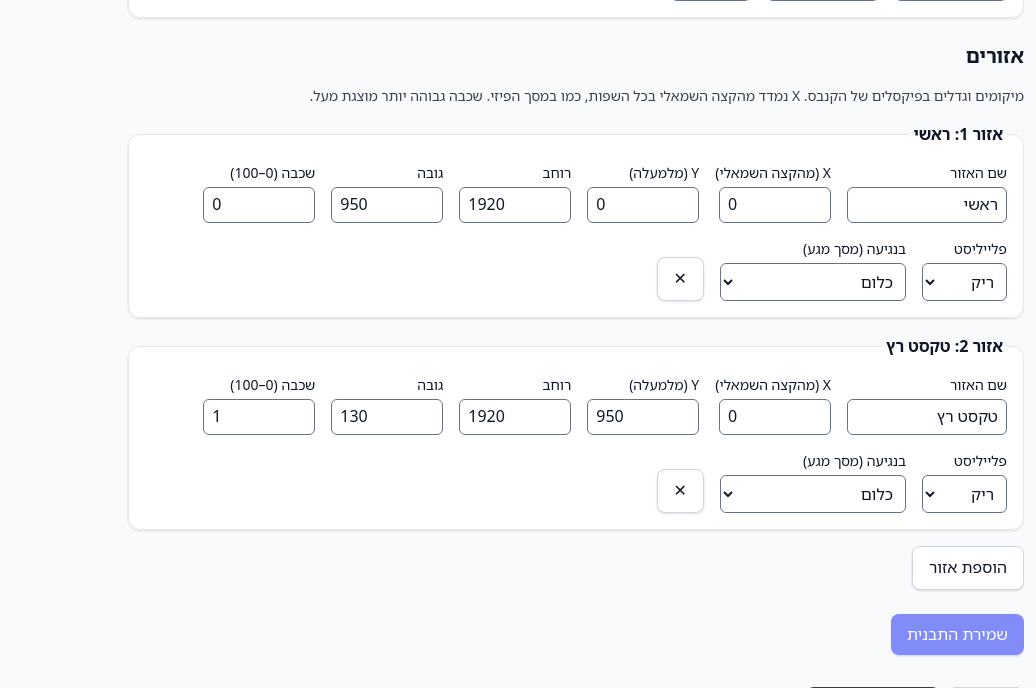
Test: LayoutEditorPage › edits zones with a form and saves them in one request
(page scrolled)
Select "חדשות" in the dropdown labelled "פלייליסט" below "אזור 2" at (964, 494), box left=922, top=475, right=1007, bottom=513
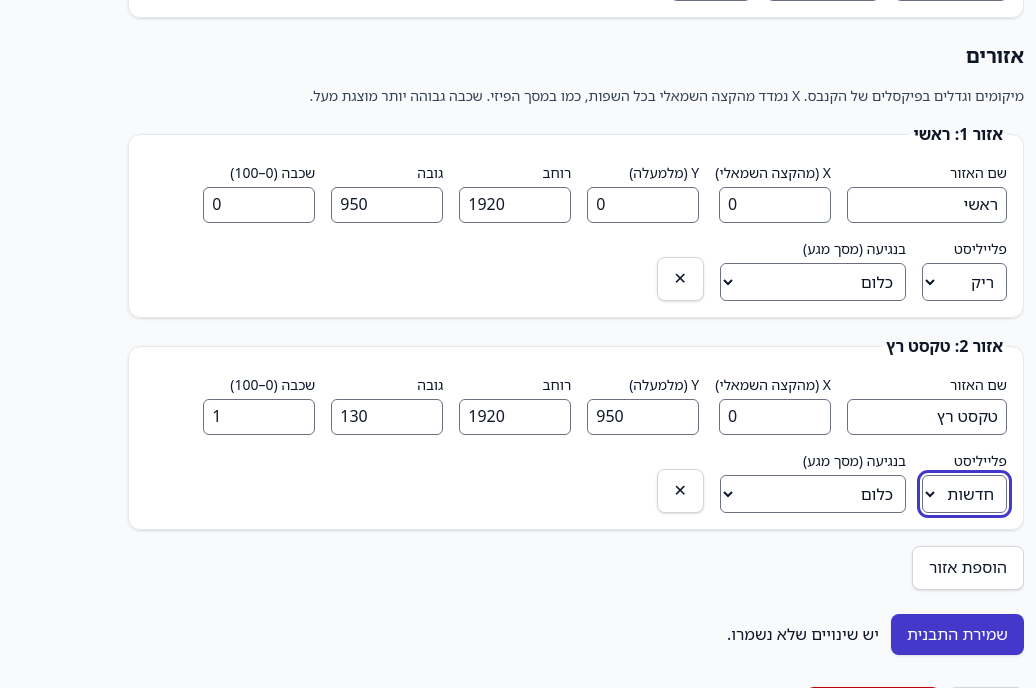
Replace the text in the 2nd number field labelled "גובה" with "120" at (387, 417), box left=331, top=399, right=443, bottom=435
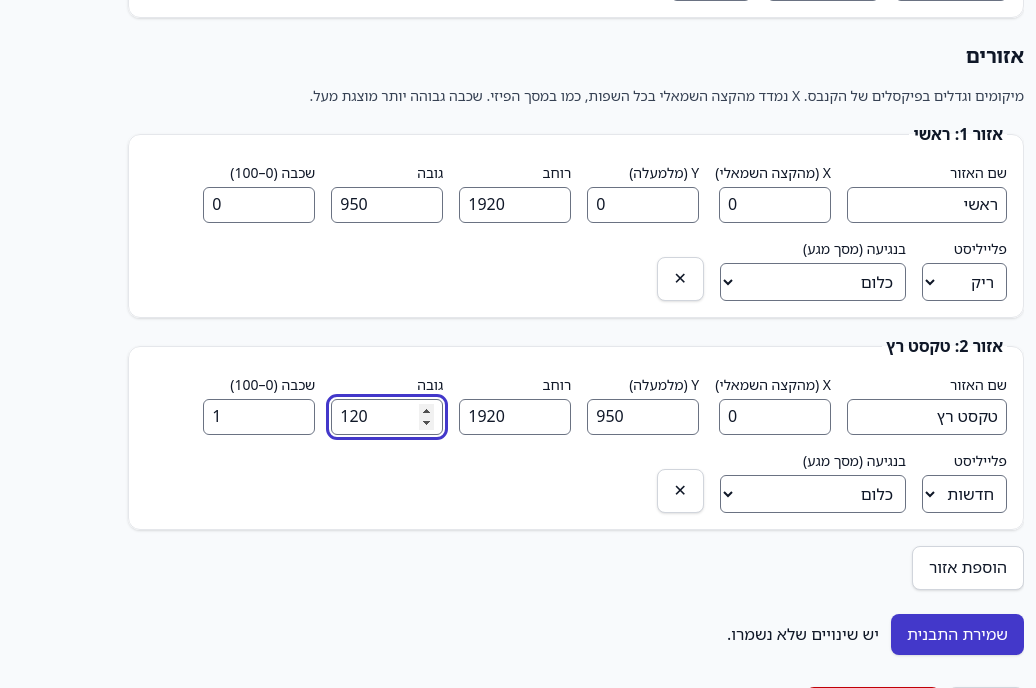
Result: the message reads "יש שינויים שלא נשמרו." at left=727, top=622, right=879, bottom=644
Click the button "שמירת התבנית".
click(957, 634)  # box left=891, top=614, right=1024, bottom=655
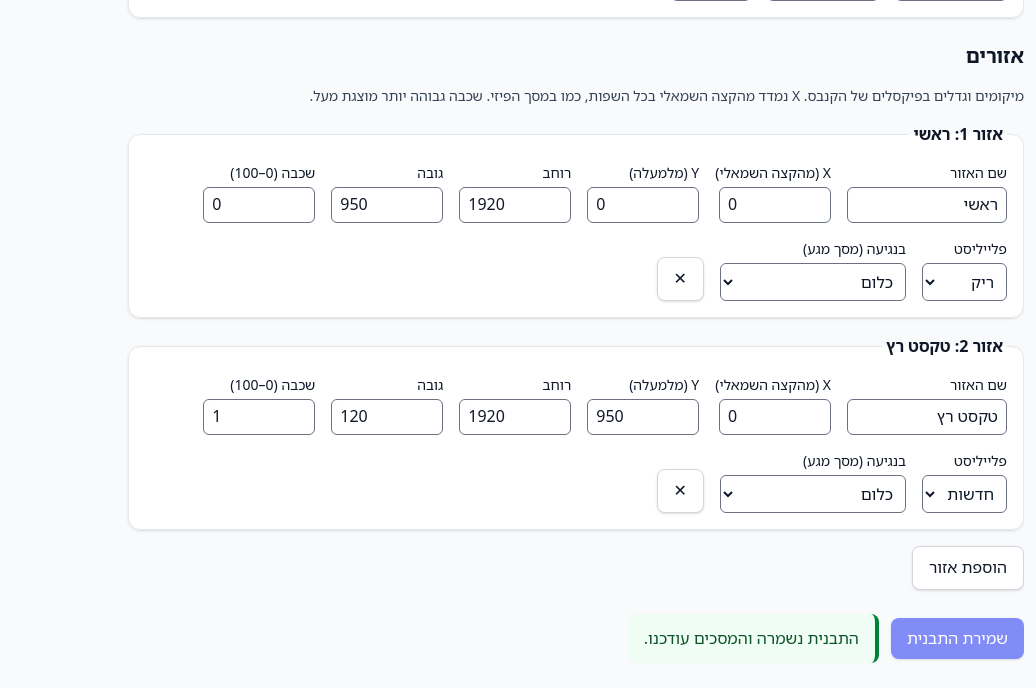
Result: the text "התבנית נשמרה והמסכים עודכנו." is shown at left=628, top=614, right=879, bottom=663
